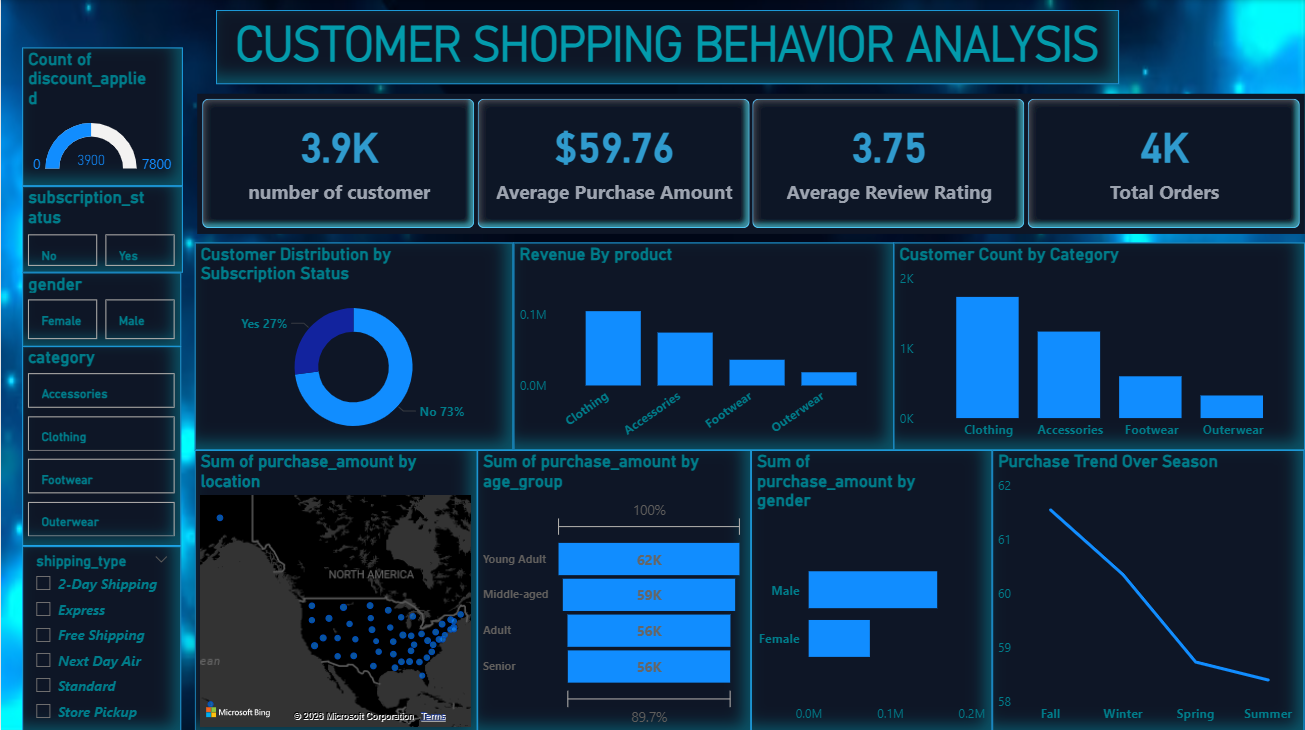

The page's visual inventory and layout, read from the dashboard file:
{"tool":"powerbi","page":{"name":"Page 1","canvas":[1280,720],"ordinal":0},"visuals":[{"type":"cardVisual","fields":{"Data":["public customer.number of customer","public customer.Average Purchase Amount","public customer.Average Review Rating","public customer.Total Orders"]},"box":[192.5,92.5,1087.5,137.5],"z":0},{"type":"donutChart","title":"Customer Distribution by Subscription Status","fields":{"Category":["public customer.subscription_status"],"Y":["CountNonNull(public customer.customer_id)"]},"box":[190,237.5,312.5,203.8],"z":1000},{"type":"clusteredColumnChart","title":"Revenue By product","fields":{"Category":["public customer.category"],"Y":["Sum(public customer.purchase_amount)"]},"box":[502.5,237.5,373.8,203.8],"z":2000},{"type":"clusteredColumnChart","title":"Customer Count by Category","fields":{"Category":["public customer.category"],"Y":["CountNonNull(public customer.customer_id)"]},"box":[876.2,237.5,403.8,203.8],"z":3000},{"type":"lineChart","title":"Purchase Trend Over Season","fields":{"Category":["public customer.season"],"Y":["Avg(public customer.purchase_amount)"]},"box":[973,441.7,306.8,278.5],"z":4000},{"type":"map","fields":{"Category":["public customer.location"],"Size":["Sum(public customer.purchase_amount)"]},"box":[190.2,441.7,277.3,278.5],"z":5000},{"type":"advancedSlicerVisual","fields":{"Values":["public customer.subscription_status"]},"box":[21.2,182.5,157.5,85],"z":6000},{"type":"clusteredBarChart","fields":{"Category":["public customer.gender"],"Y":["Sum(public customer.purchase_amount)"]},"box":[736.2,441.7,236.8,278.5],"z":7000},{"type":"gauge","fields":{"Y":["CountNonNull(public customer.discount_applied)"]},"box":[21.2,46.2,157.5,136.2],"z":8000},{"type":"advancedSlicerVisual","fields":{"Values":["public customer.gender"]},"box":[21.2,267.5,156.2,72.5],"z":9000},{"type":"advancedSlicerVisual","fields":{"Values":["public customer.category"]},"box":[21.2,340,156.2,196.2],"z":10000},{"type":"slicer","fields":{"Values":["public customer.shipping_type"]},"box":[21.2,536.2,156.2,183.8],"z":11000},{"type":"textbox","box":[211.2,10,886.2,72.5],"z":12000},{"type":"funnel","fields":{"Category":["public customer.age_group"],"Y":["Sum(public customer.purchase_amount)"]},"box":[467.5,441.2,268.8,278.8],"z":13000}]}

Visuals, with their boxes in screenshot pixels (x1, y1, x2, y2), scaled from the page's 1280x720 canvas onto the 1305x730 screenshot:
cardVisual - public customer.number of customer x public customer.Average Purchase Amount: x1=196 y1=94 x2=1304 y2=233
"Customer Distribution by Subscription Status" donutChart: x1=194 y1=241 x2=512 y2=447
"Revenue By product" clusteredColumnChart: x1=512 y1=241 x2=893 y2=447
"Customer Count by Category" clusteredColumnChart: x1=893 y1=241 x2=1304 y2=447
"Purchase Trend Over Season" lineChart: x1=992 y1=448 x2=1304 y2=729
map - public customer.location x Sum(public customer.purchase_amount): x1=194 y1=448 x2=477 y2=729
advancedSlicerVisual - public customer.subscription_status: x1=22 y1=185 x2=182 y2=271
clusteredBarChart - public customer.gender x Sum(public customer.purchase_amount): x1=751 y1=448 x2=992 y2=729
gauge - CountNonNull(public customer.discount_applied): x1=22 y1=47 x2=182 y2=185
advancedSlicerVisual - public customer.gender: x1=22 y1=271 x2=181 y2=345
advancedSlicerVisual - public customer.category: x1=22 y1=345 x2=181 y2=544
slicer - public customer.shipping_type: x1=22 y1=544 x2=181 y2=729
textbox: x1=215 y1=10 x2=1119 y2=84
funnel - public customer.age_group x Sum(public customer.purchase_amount): x1=477 y1=447 x2=751 y2=729
